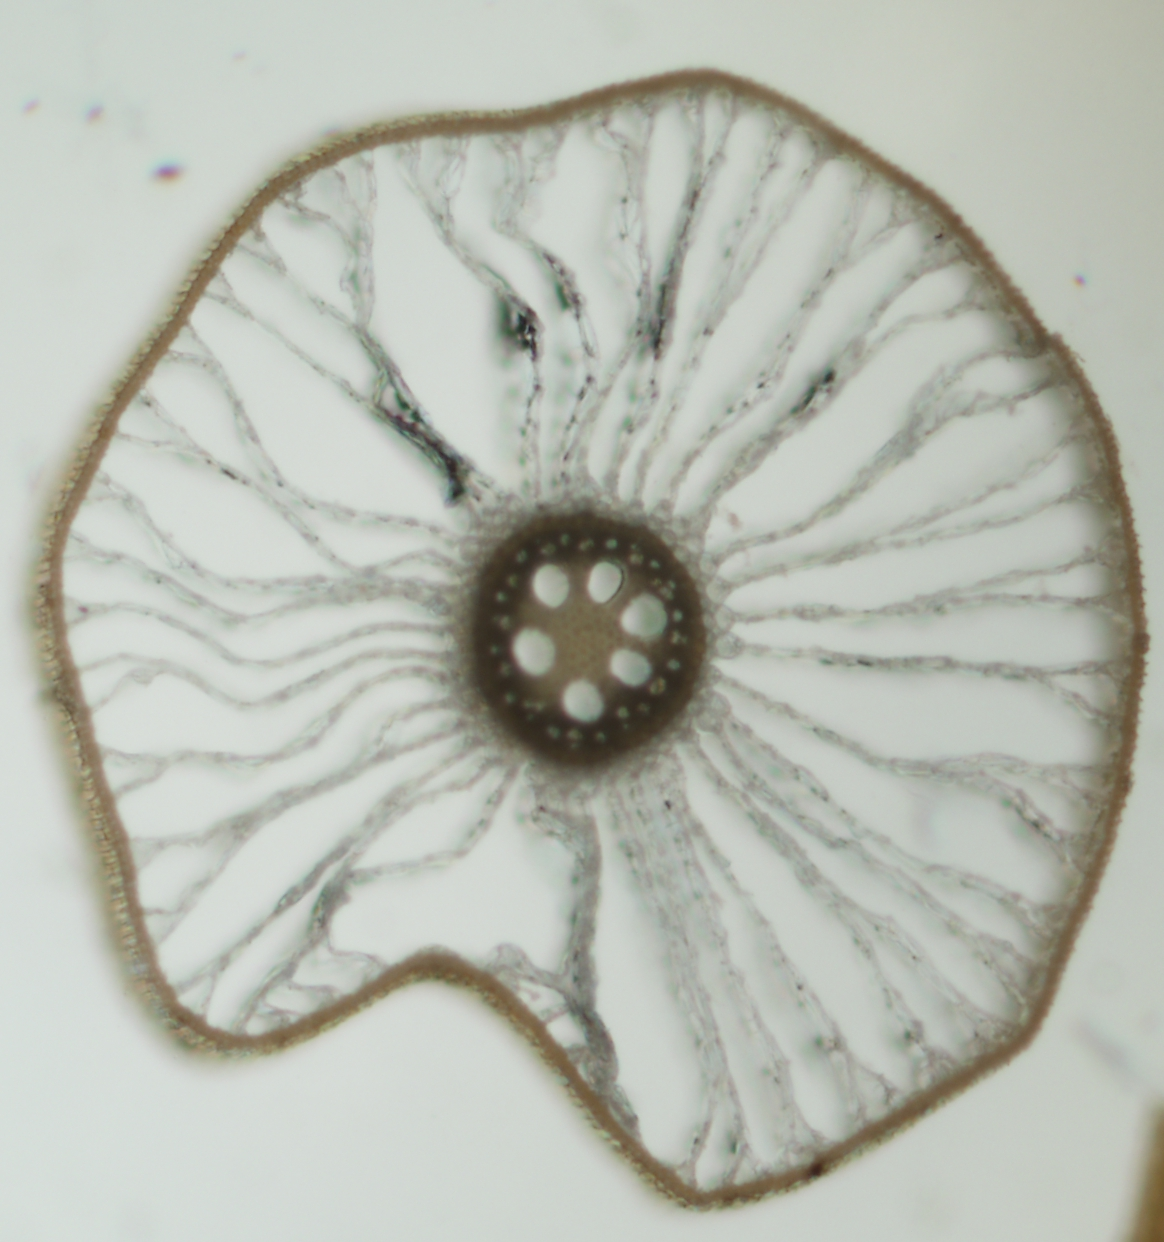lm: (620, 592, 667, 640), (512, 627, 556, 676), (561, 680, 605, 722), (609, 648, 653, 687), (533, 564, 570, 608), (587, 561, 622, 604)
